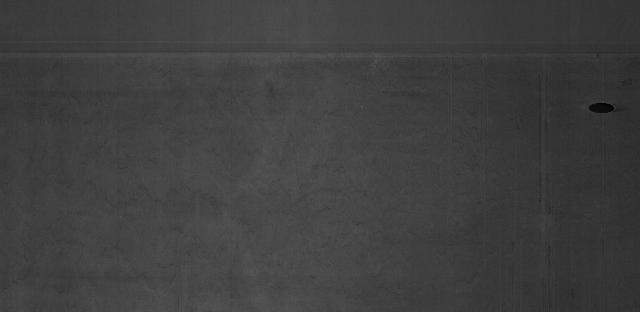punching_hole: (586, 100, 620, 116)
silk_spot: (8, 78, 518, 303)
welding_line: (4, 36, 633, 66)
